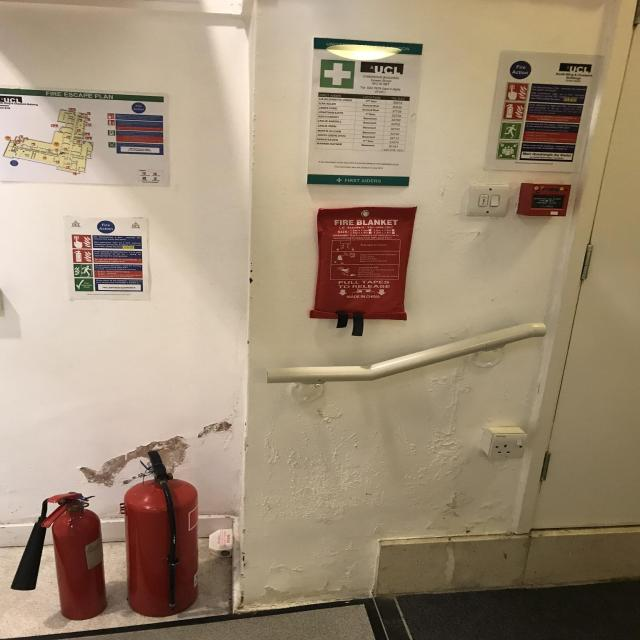fire_extinguisher: (118, 448, 202, 620), (8, 487, 110, 624)
